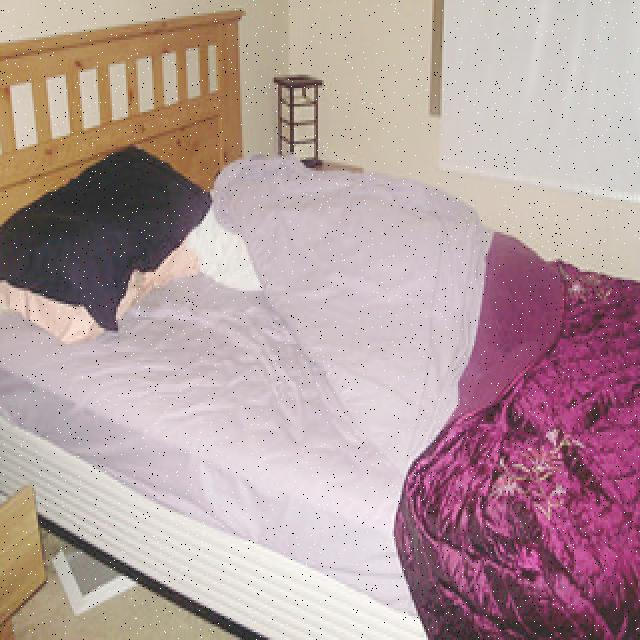bed: (6, 97, 640, 640)
